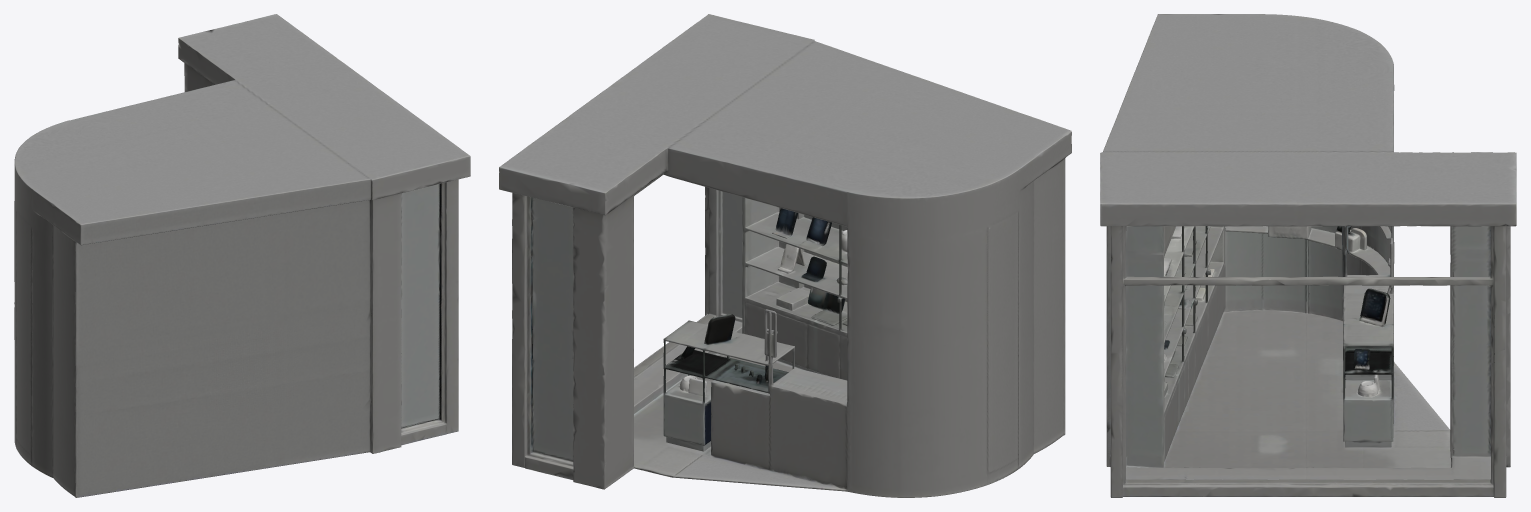
The model's file is front_elec_c.glb.
3 renders of one model, left to right at view 1: azimuth 30°, elevation 25°; view 2: azimuth 150°, elevation 25°; view 3: azimuth 270°, elevation 25°, orthographic. The views are drawn at different scales.
Visible parts, largest first — view 1: tripo_node_19cd6529-3a9a-4625-a380-2c778788e2b9; view 2: tripo_node_19cd6529-3a9a-4625-a380-2c778788e2b9; view 3: tripo_node_19cd6529-3a9a-4625-a380-2c778788e2b9.
Boxes of the visible parts, x1=… form: tripo_node_19cd6529-3a9a-4625-a380-2c778788e2b9: x1=14, y1=14, x2=470, y2=497; tripo_node_19cd6529-3a9a-4625-a380-2c778788e2b9: x1=499, y1=14, x2=1071, y2=497; tripo_node_19cd6529-3a9a-4625-a380-2c778788e2b9: x1=1100, y1=14, x2=1516, y2=497.
Bounding box in the file's own units: 2.88 × 2.1 × 2.66.
1 material, 1 textured.
